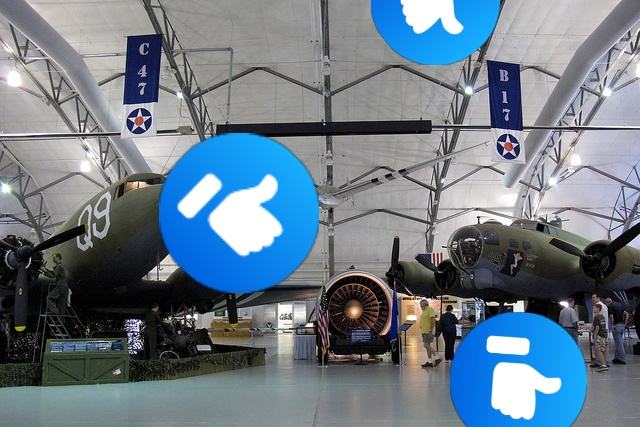like: (159, 133, 319, 293), (450, 312, 587, 427), (371, 0, 500, 65)
